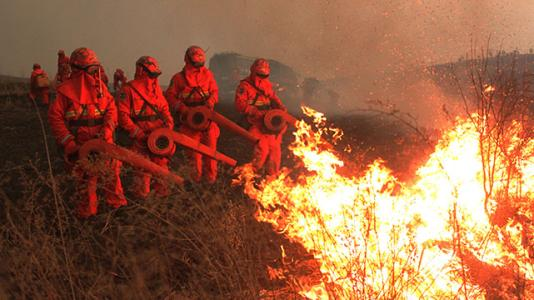fire: (256, 108, 534, 300)
